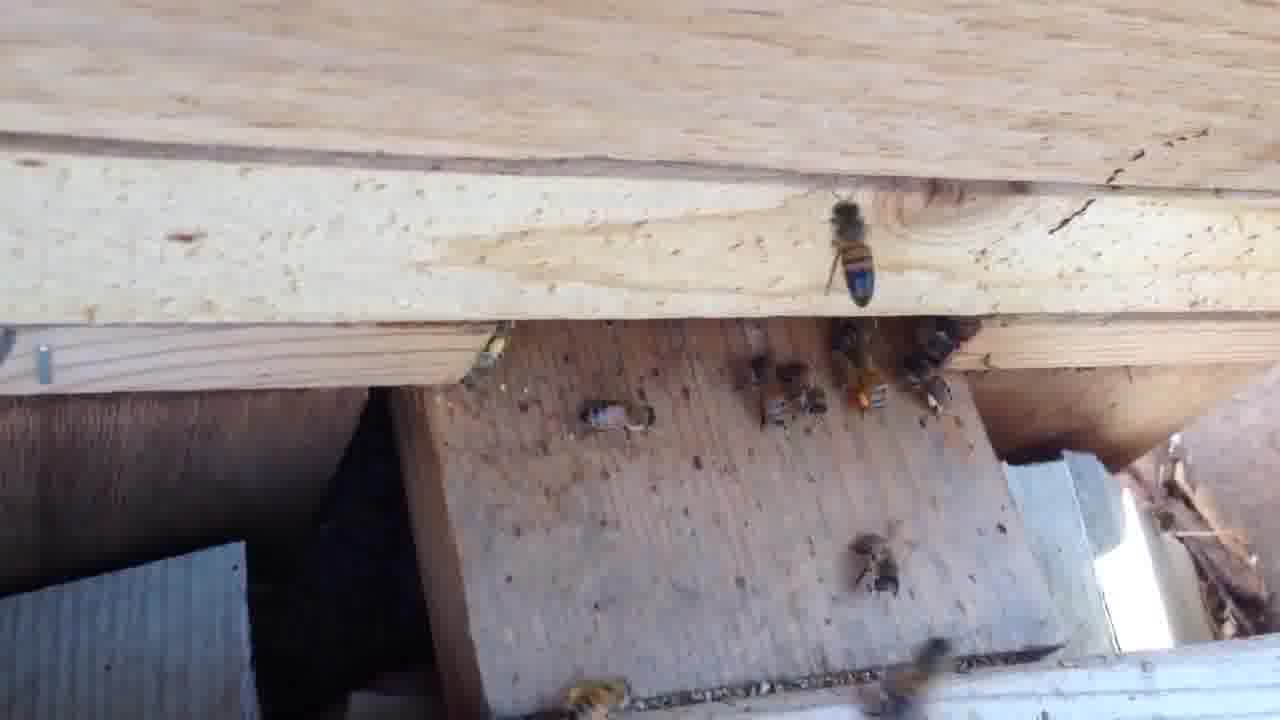pollen: (845, 355, 899, 423)
